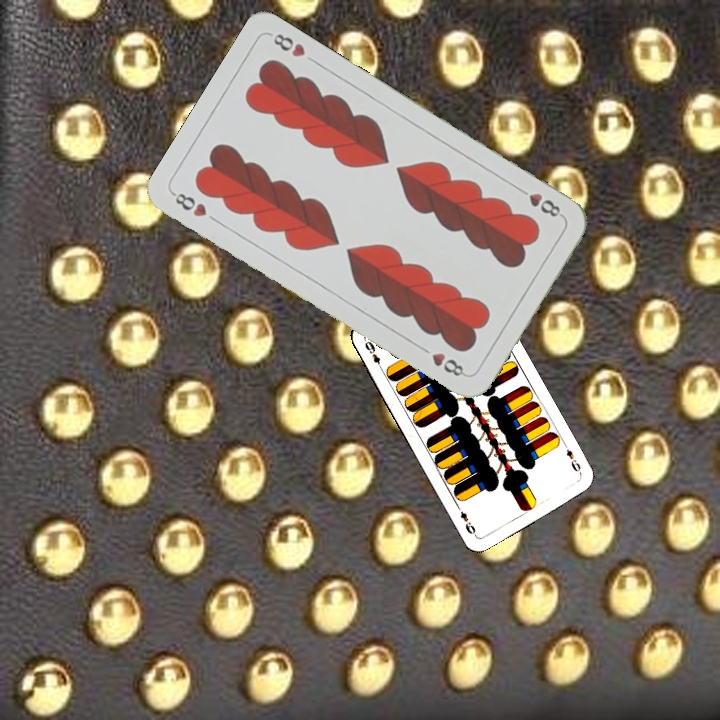E9: (361, 336, 386, 373), (560, 440, 584, 478)
H8: (513, 183, 566, 220), (168, 188, 210, 220)
